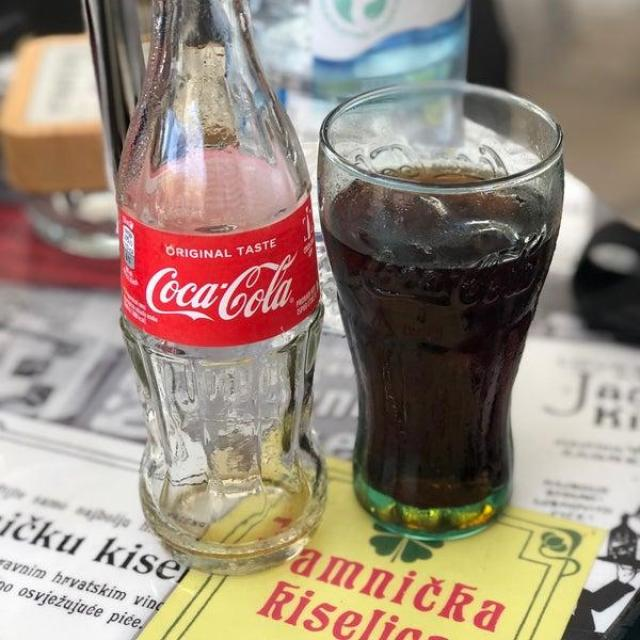coca-cola: (105, 0, 337, 564)
